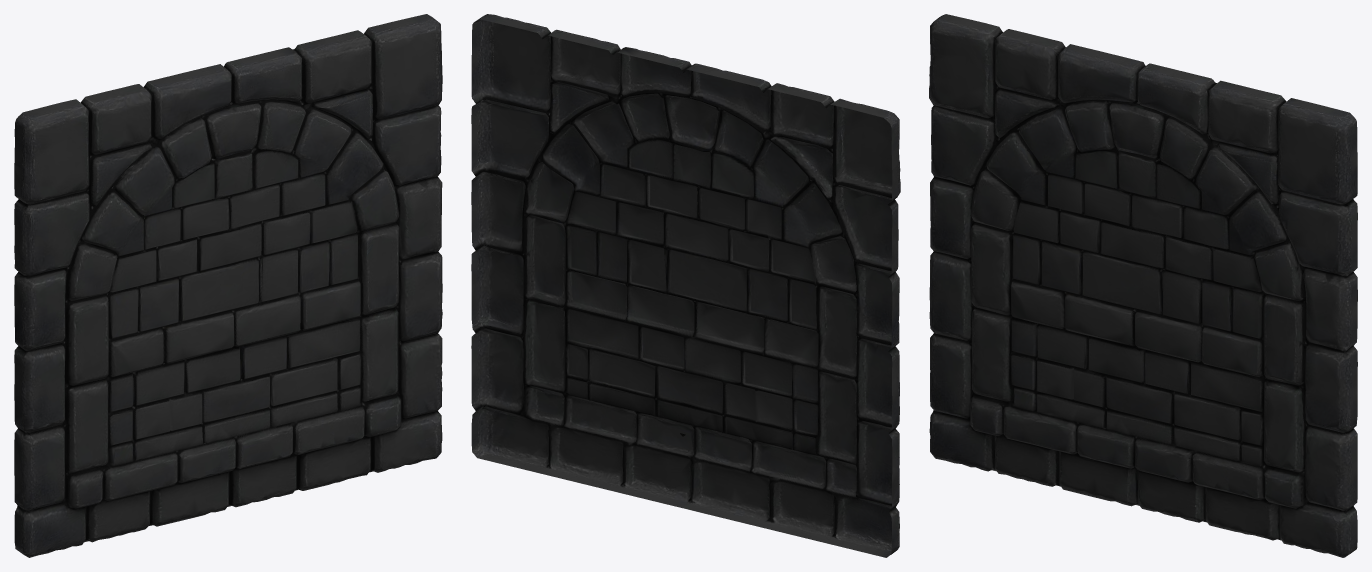
Rendered from Wall_Shrine_Generic2.fbx.
3 renders of one model, left to right at view 1: azimuth 30°, elevation 25°; view 2: azimuth 150°, elevation 25°; view 3: azimuth 330°, elevation 25°, orthographic.
Visible parts, largest first — view 1: Walls_Shrine_extra; view 2: Walls_Shrine_extra; view 3: Walls_Shrine_extra.
Part boxes in pixels (x1=…): Walls_Shrine_extra: x1=14, y1=14, x2=442, y2=557; Walls_Shrine_extra: x1=471, y1=14, x2=900, y2=557; Walls_Shrine_extra: x1=929, y1=14, x2=1357, y2=557.
Bounding box in the file's own units: 303 × 303 × 18.16.
1 material, 1 textured.
